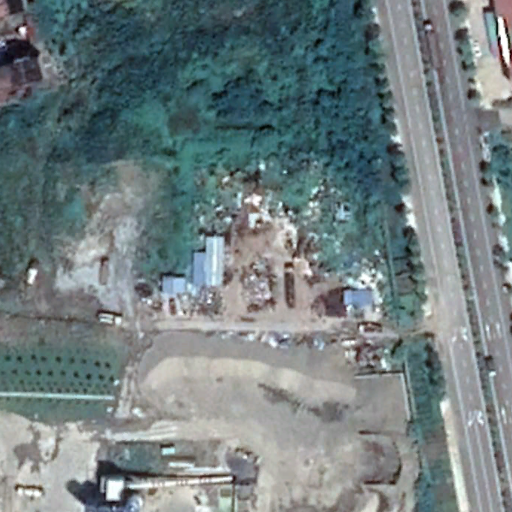msw: (170, 179, 397, 373)
